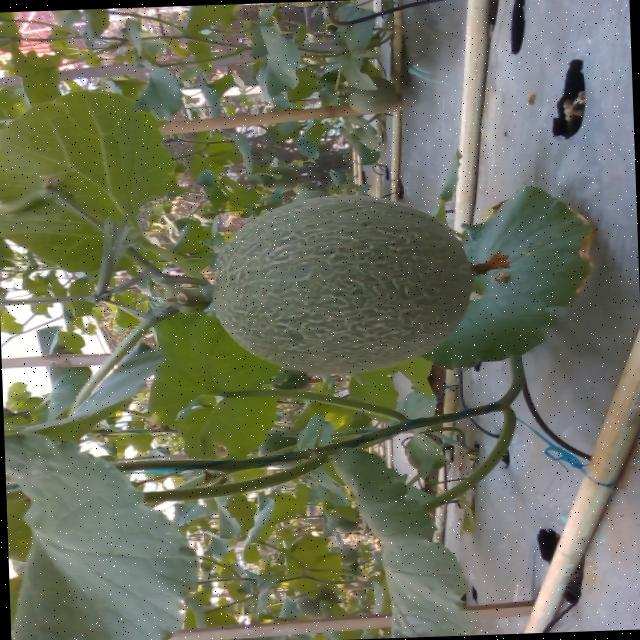melon: (213, 193, 472, 371)
